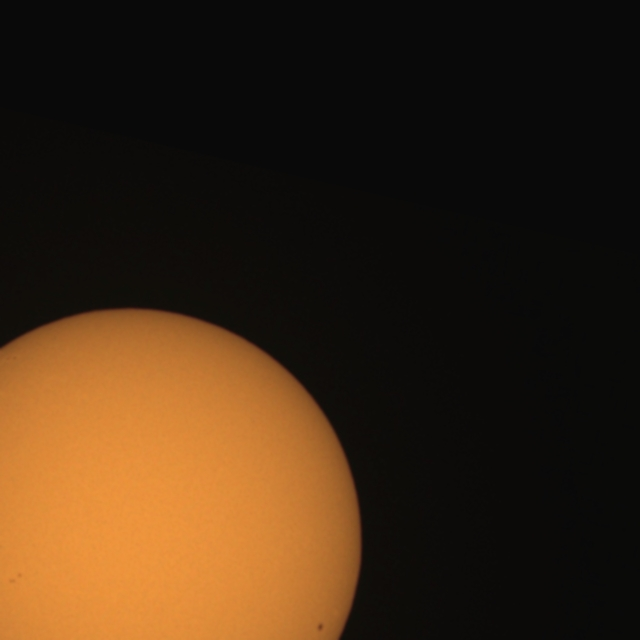sunspot: (7, 571, 24, 586), (316, 621, 325, 633)
